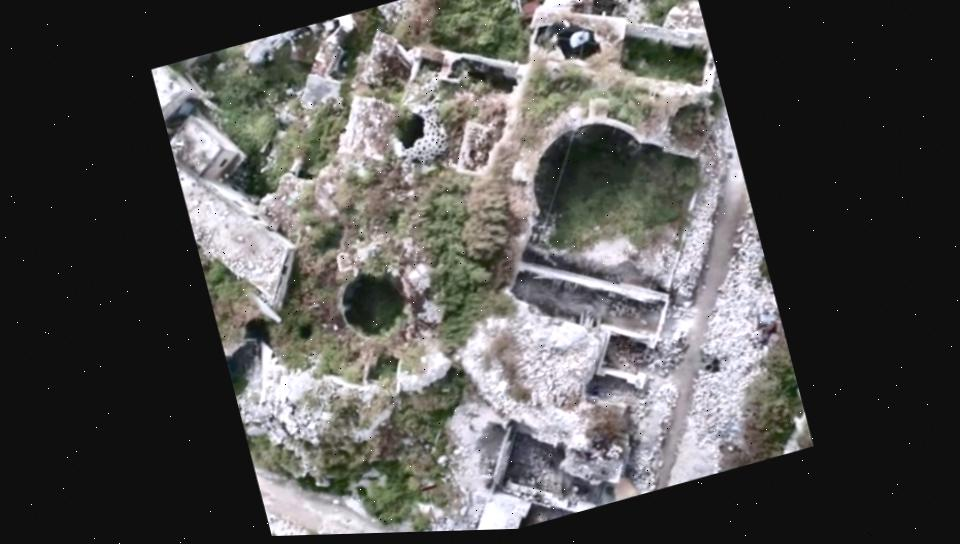kapali: (615, 211, 760, 502)
